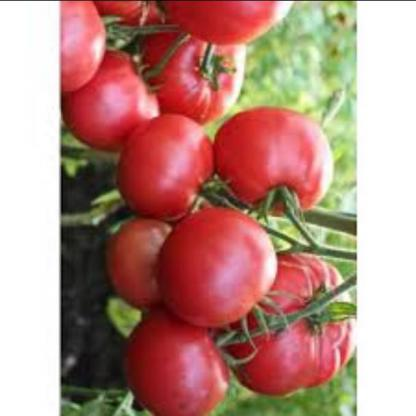tomato: (236, 251, 358, 394), (159, 208, 278, 338), (215, 101, 336, 216), (126, 316, 236, 416), (120, 112, 221, 218), (147, 27, 246, 126), (73, 53, 172, 151), (56, 0, 122, 96), (104, 220, 172, 310), (169, 1, 299, 46), (100, 1, 200, 43)
